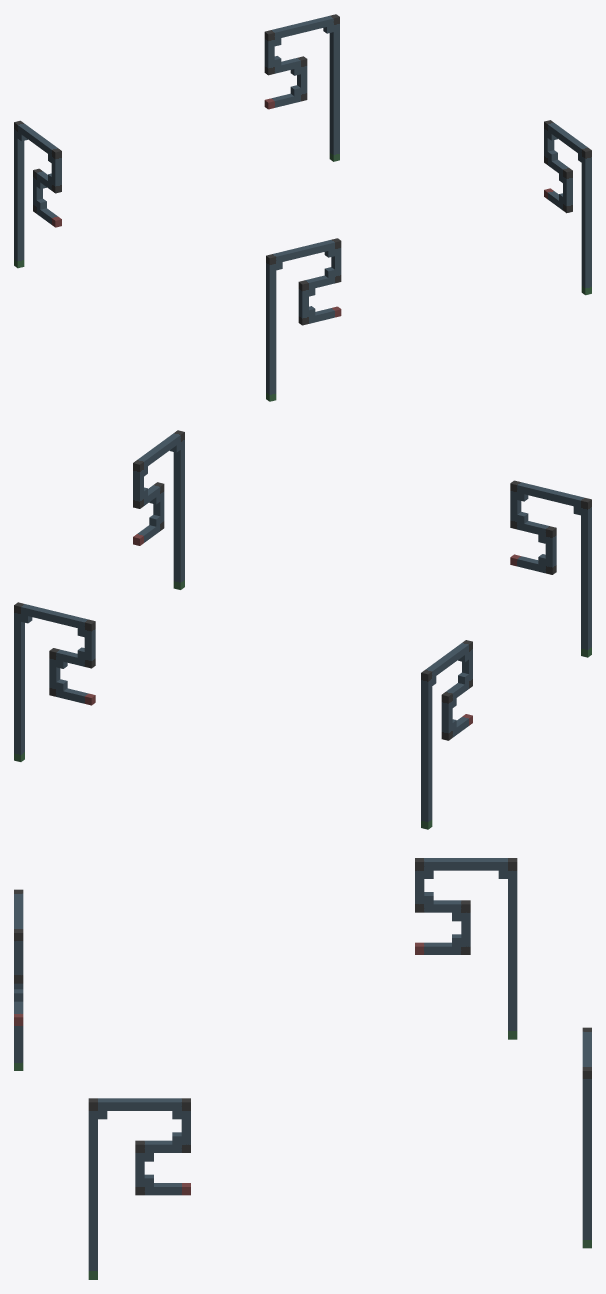
File: pattern_12.glb
3 renders of one model, top to bottom at view 1: azimuth 30°, elevation 25°; view 2: azimuth 150°, elevation 25°; view 3: azimuth 270°, elevation 25°, orthographic. The views are drawn at different scales.
Parts seen in each view (by area): view 1: crate_pattern_12; view 2: crate_pattern_12; view 3: crate_pattern_12.
Boxes of the visible parts, x1,y1,x2,y2 form: crate_pattern_12: [14, 14, 591, 401]; crate_pattern_12: [14, 430, 591, 829]; crate_pattern_12: [14, 858, 591, 1279].
Bounding box in the file's own units: 6.2 × 2.1 × 6.2.
Materials: 1 (1 with a texture image).
